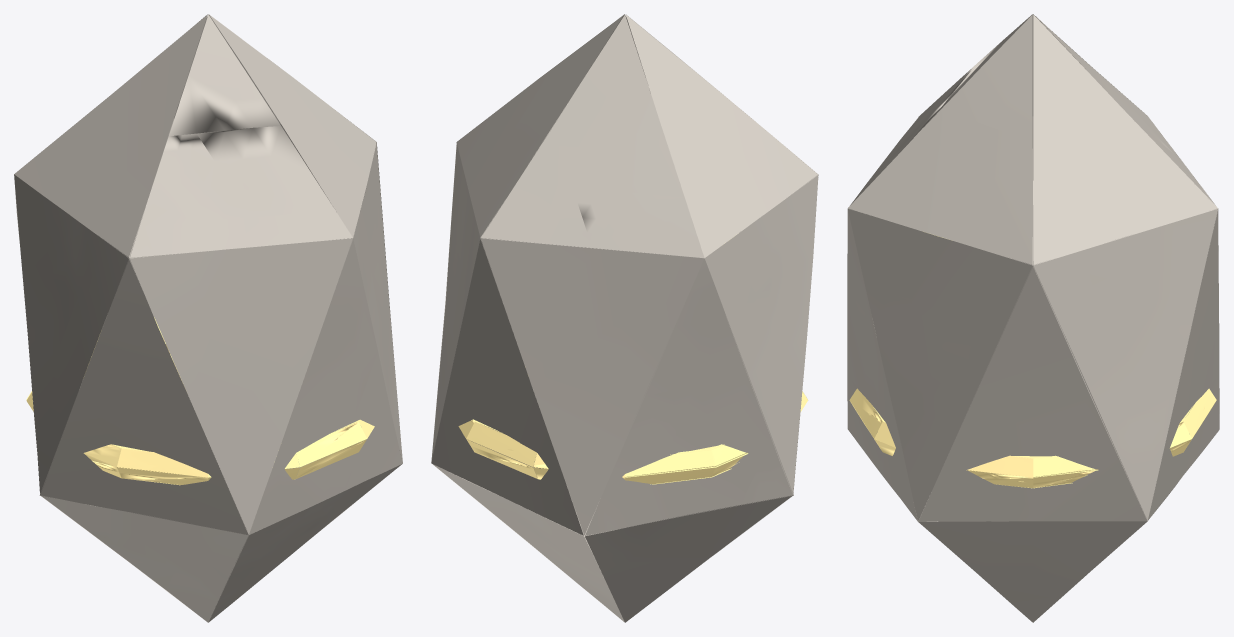
The model's file is egg_large.glb.
The picture shows the model from 3 angles, left to right: view 1: azimuth 30°, elevation 25°; view 2: azimuth 150°, elevation 25°; view 3: azimuth 270°, elevation 25°; orthographic projection.
Visible parts, largest first — view 1: EggShell; view 2: EggShell; view 3: EggShell.
Part boxes in pixels (x1,y1,x2,y2): EggShell: [14, 14, 402, 622]; EggShell: [431, 14, 818, 622]; EggShell: [847, 14, 1219, 622].
Bounding box in the file's own units: 0.9982 × 1.72 × 0.9544.
